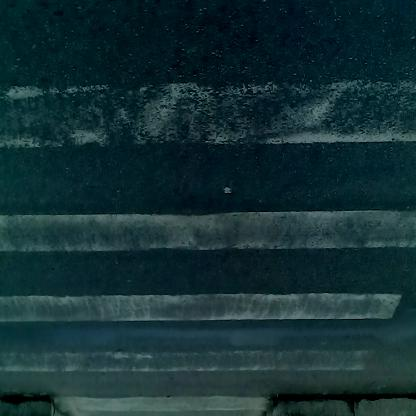crosswalk: (9, 44, 412, 382)
